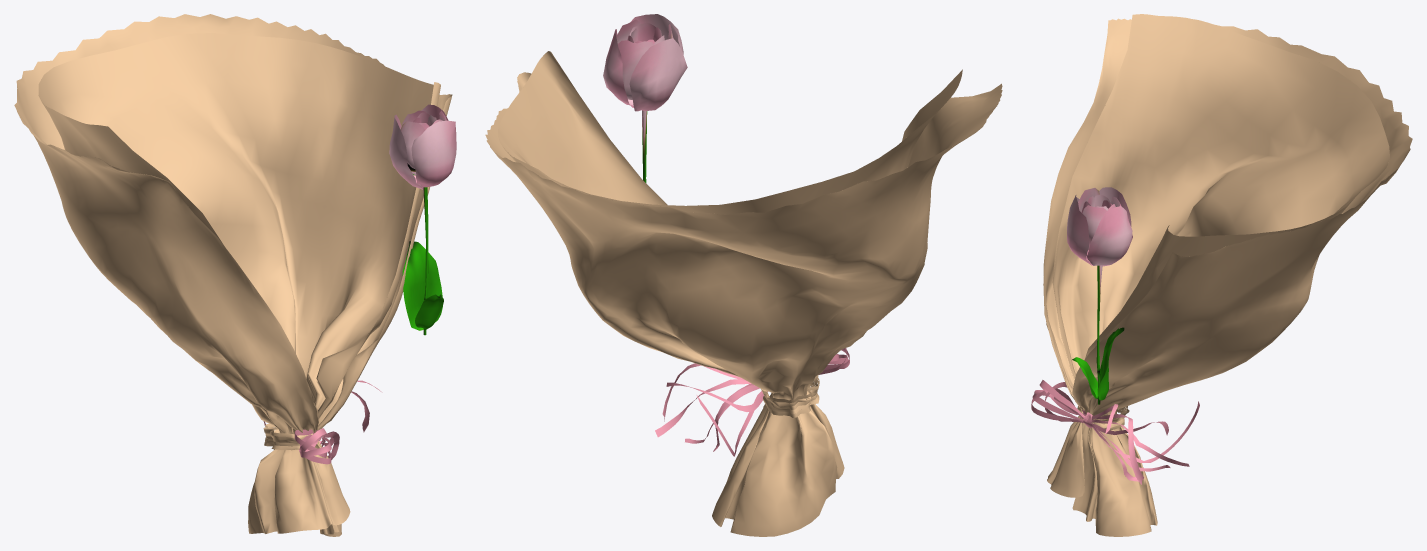
The picture shows the model from 3 angles, left to right: view 1: azimuth 30°, elevation 25°; view 2: azimuth 150°, elevation 25°; view 3: azimuth 270°, elevation 25°; orthographic projection. The views are drawn at different scales.
Parts seen in each view (by area): view 1: inner, outer, Geometry, ribbon, parcel_knot; view 2: outer, inner, Geometry, ribbon, parcel_knot; view 3: inner, outer, Geometry, ribbon.
Boxes of the visible parts, box(x1,y1,x2,y2) form: inner: box(38, 33, 440, 434); outer: box(14, 14, 452, 536); Geometry: box(389, 104, 456, 335); ribbon: box(263, 380, 382, 464); parcel_knot: box(263, 424, 312, 450); outer: box(485, 72, 1002, 536); inner: box(498, 51, 962, 214); Geometry: box(603, 14, 687, 182); ribbon: box(655, 348, 849, 456); parcel_knot: box(761, 375, 819, 417); inner: box(1052, 14, 1389, 380); outer: box(1043, 18, 1412, 536); Geometry: box(1067, 187, 1132, 404); ribbon: box(1031, 380, 1199, 484).
Size of the model in its own units: 1.81 by 1.9 by 1.55.
Materials: 6 (1 with a texture image).
